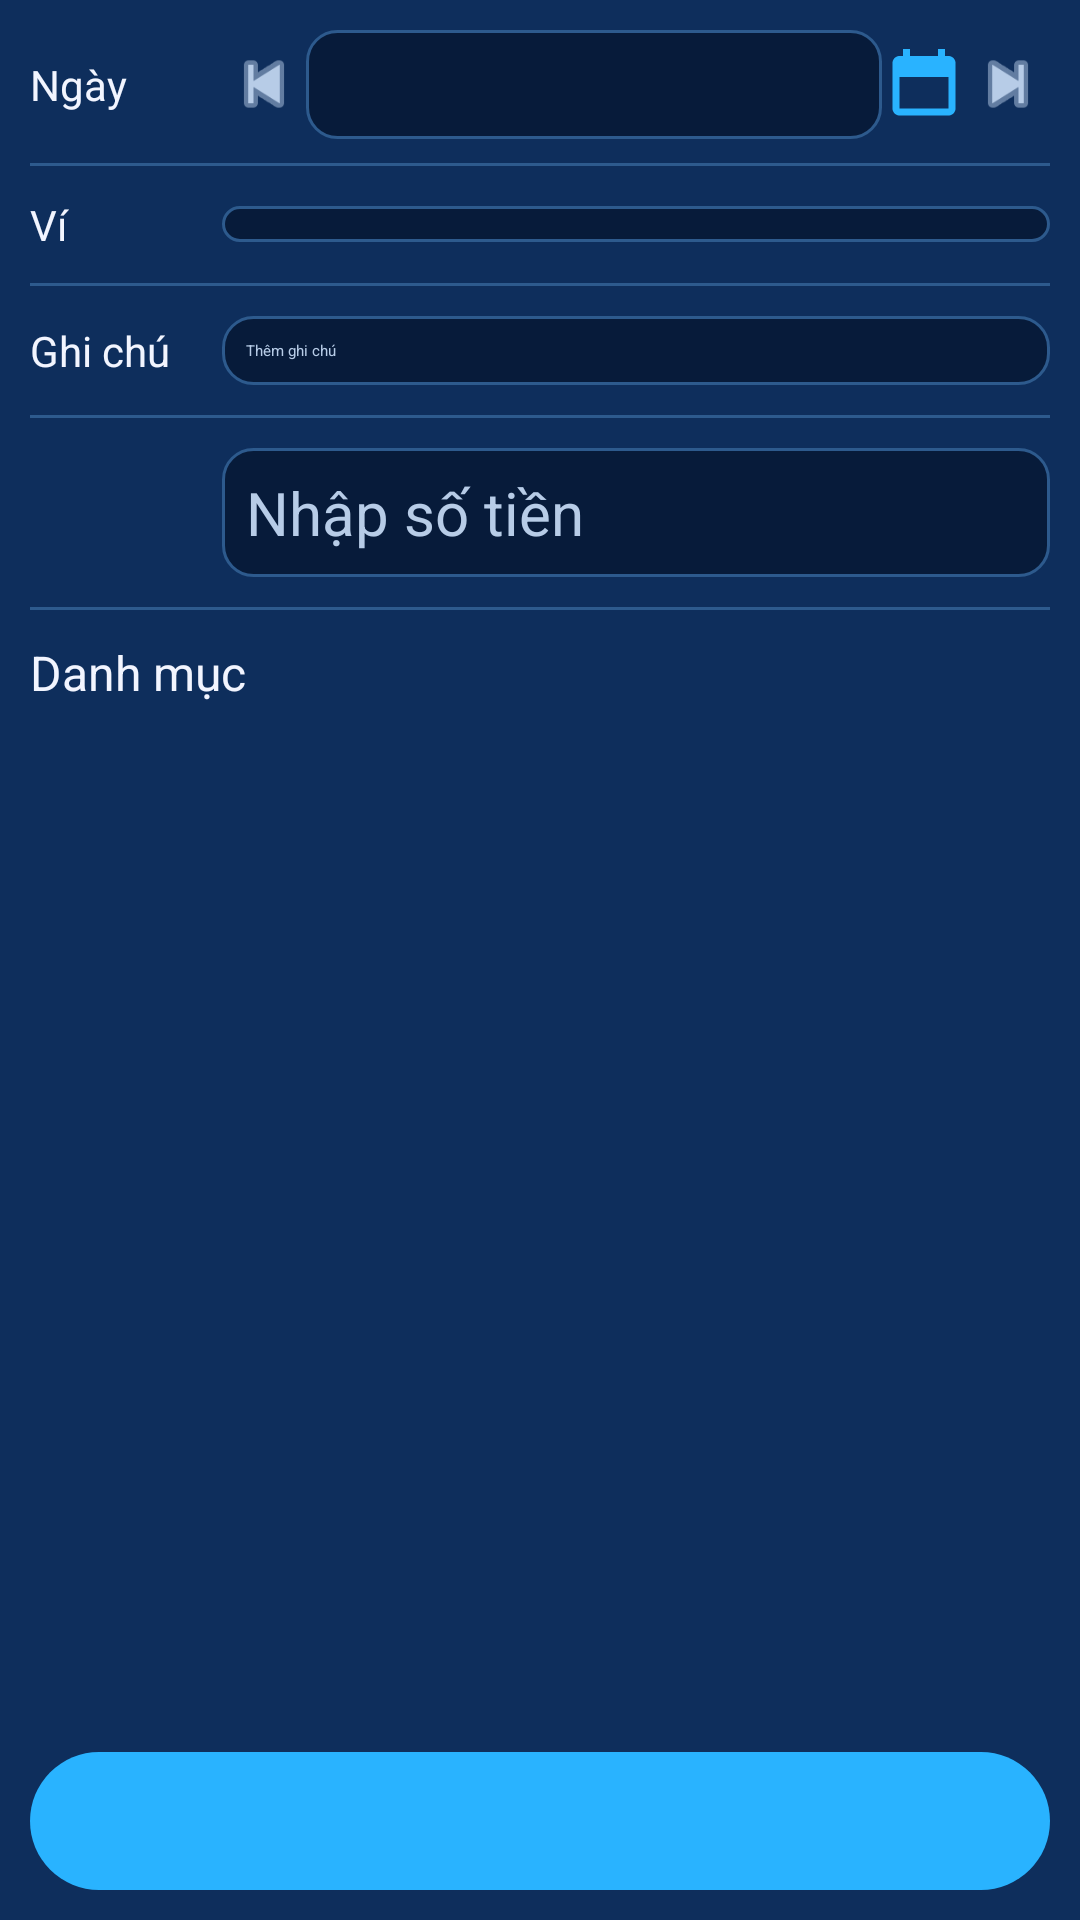

Icons on this 1080w x 1920h Android screen, each with its box as (x1, y1, x2, y2):
calendar: (892, 49, 956, 116)
next: (988, 60, 1028, 108)
previous: (244, 60, 284, 108)
